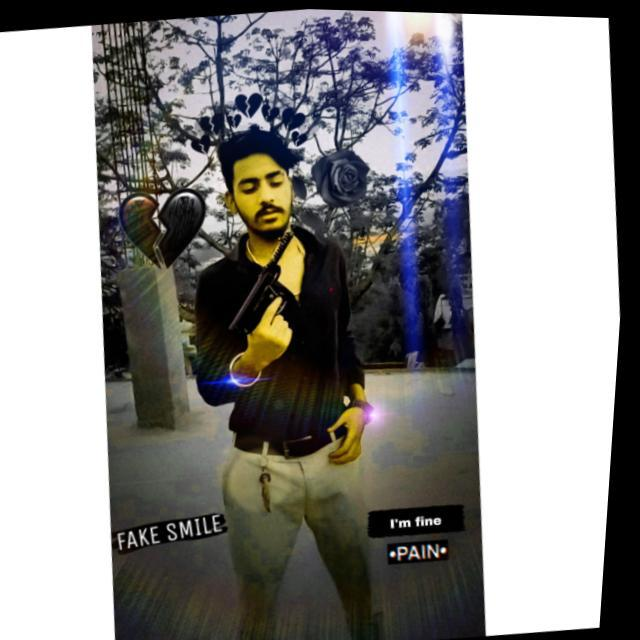weapon: (220, 223, 314, 344)
